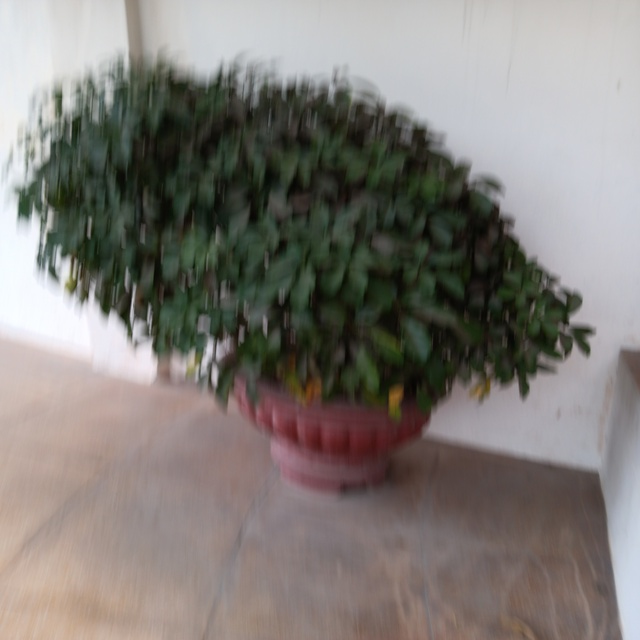caycanh: (12, 49, 605, 505)
